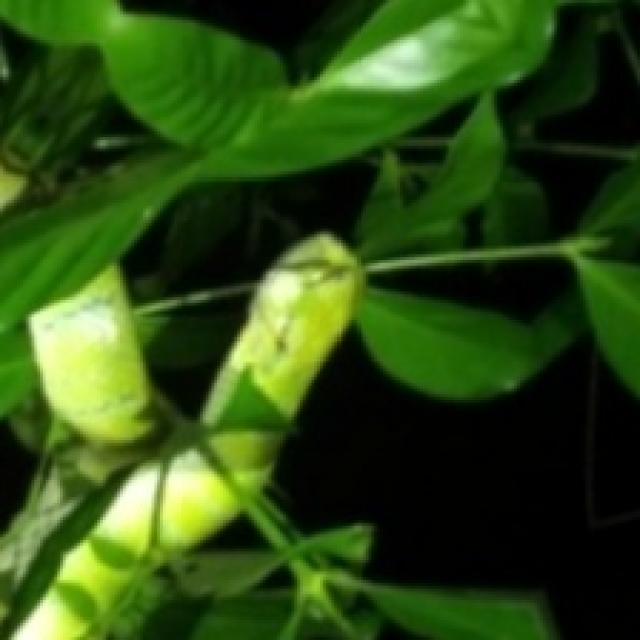north ph temple pitviper: (0, 234, 363, 637)
